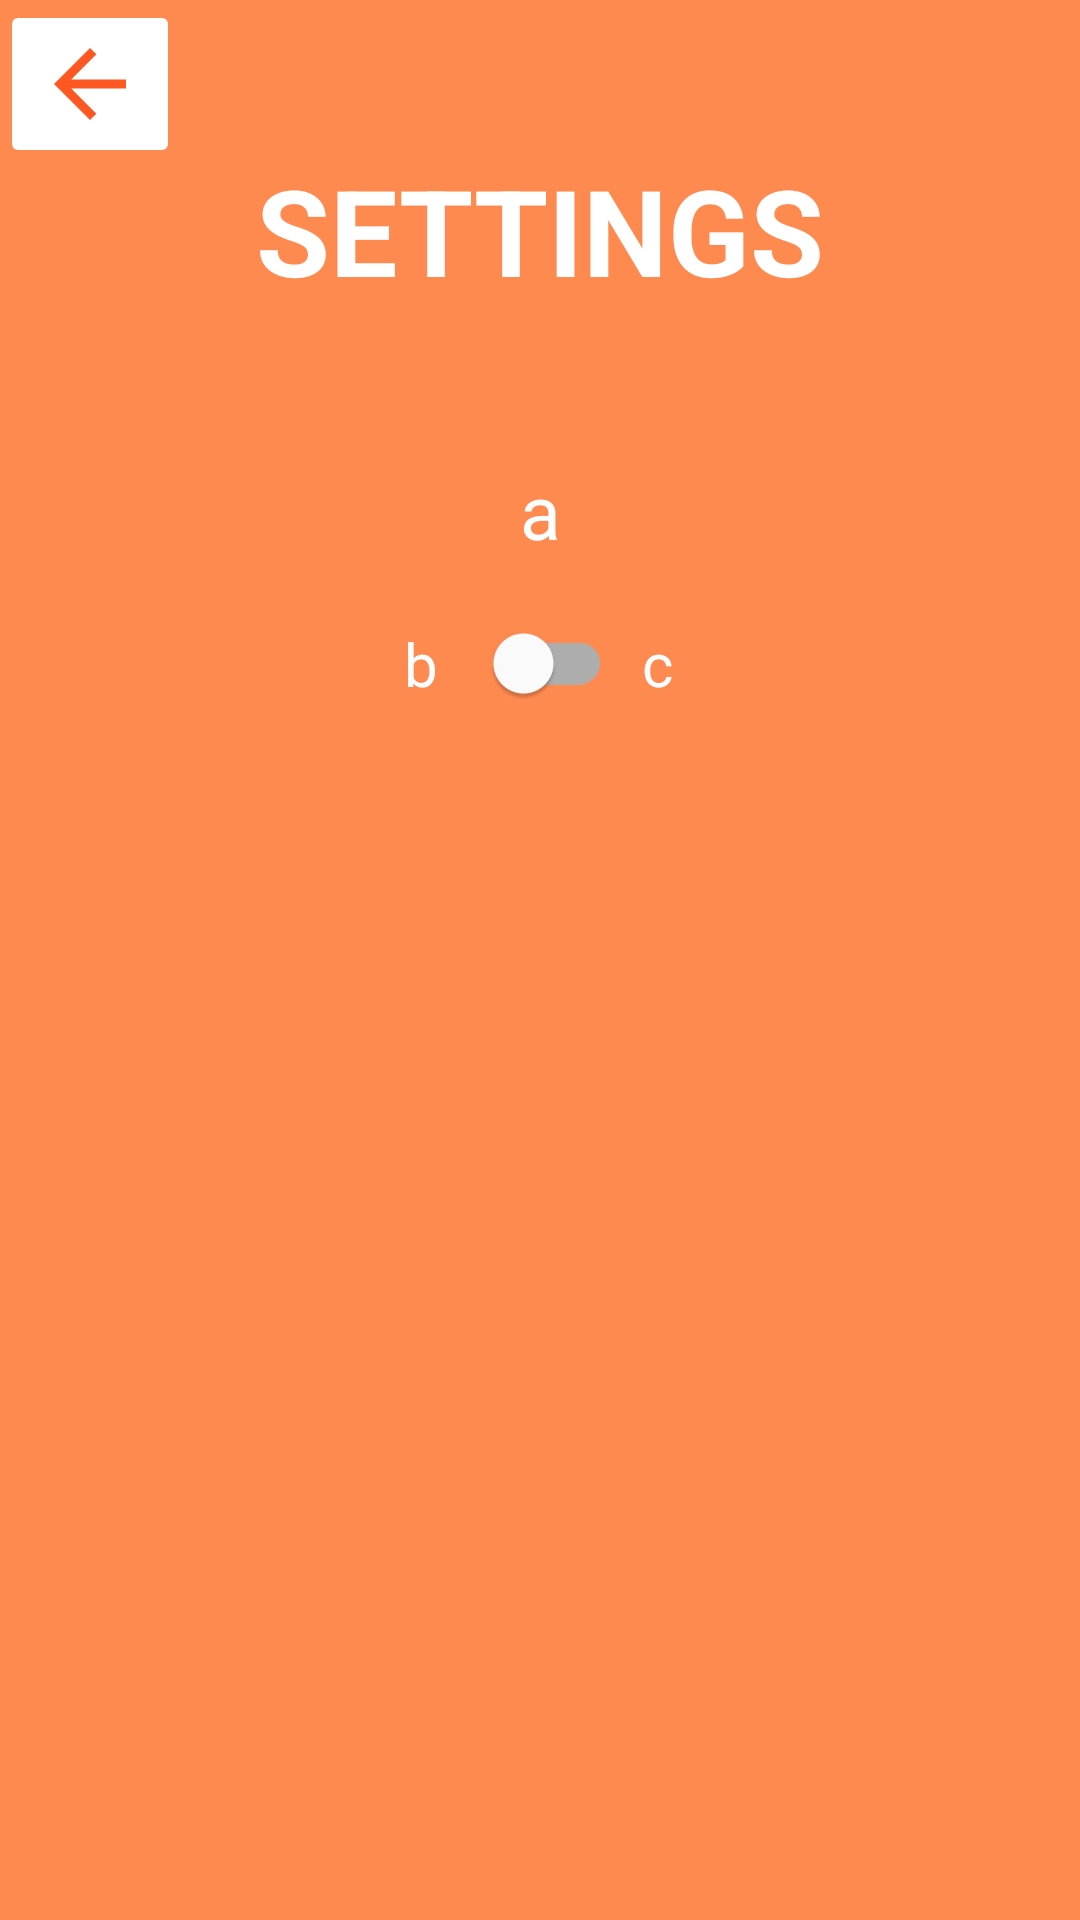

Where to tap for icons on this 1080 x 1920 app screen, as (x=x, y=y):
arrow back: (x=90, y=84)
